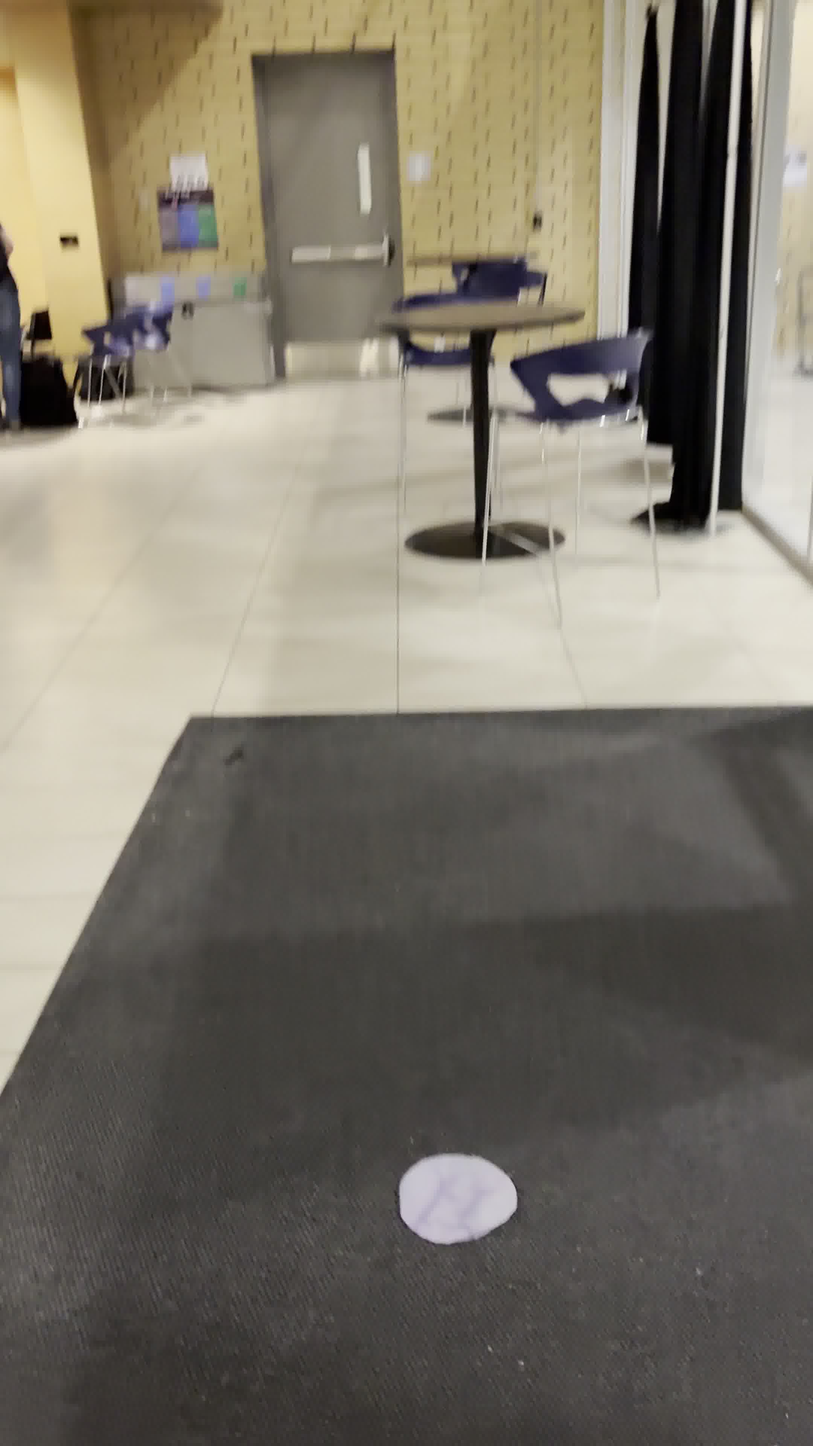Target: (395, 1151, 522, 1248)
